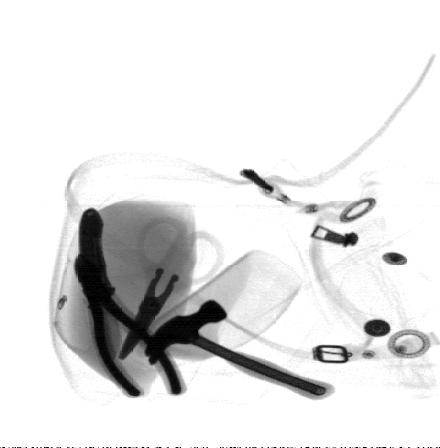Hammer: (142, 299, 337, 400)
Knife: (77, 207, 120, 370)
Pliers: (72, 250, 188, 398)
Scissors: (116, 217, 228, 361)
